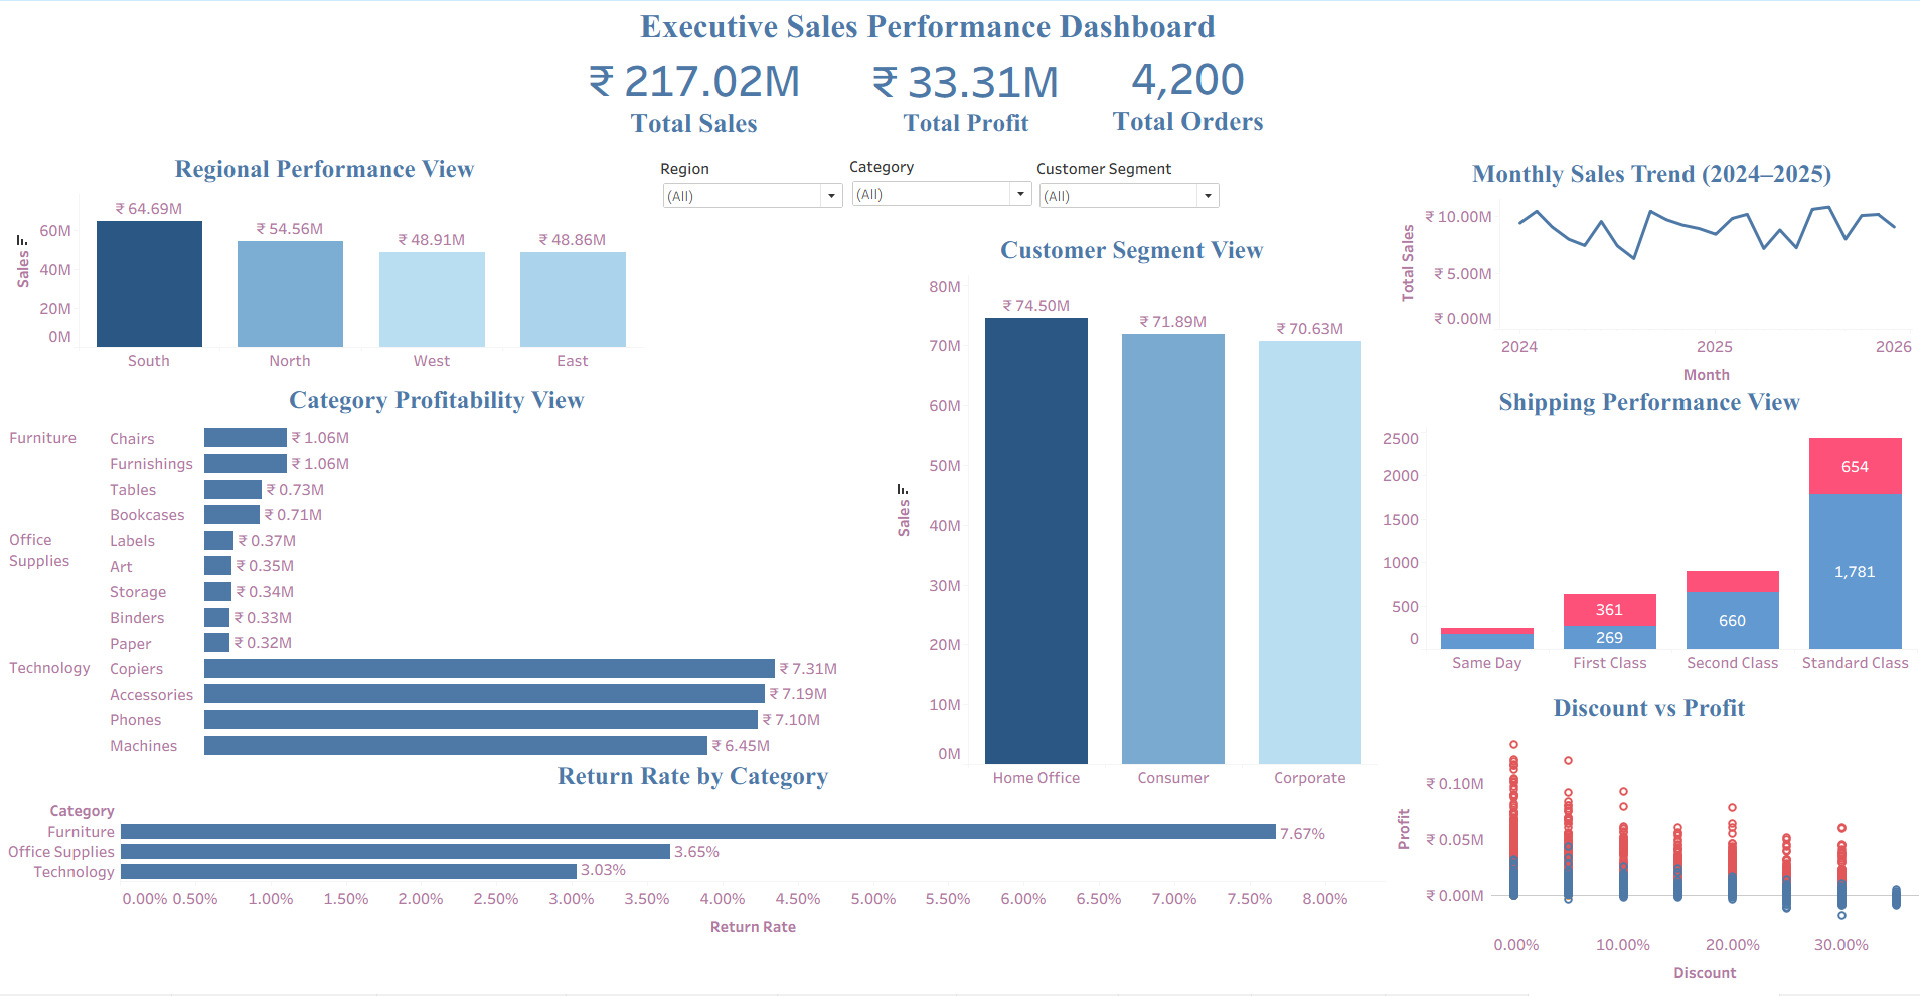

This screenshot's page, from the dashboard's own definition file:
{"tool":"tableau","page":{"name":"Executive Sales Performance Dashboard","canvas":[1000,1000],"units":"permille","ordinal":0},"visuals":[{"type":"text","box":[297.7,3.8,372.8,42.5]},{"type":"worksheet","title":"KPI : Total Profit","mark":"Automatic","box":[451.6,47.4,135.3,118.6]},{"type":"worksheet","title":"KPI : Total Orders","mark":"Automatic","box":[577.3,48.7,123.3,112.4]},{"type":"worksheet","title":"KPI : Total Sales","mark":"Automatic","box":[300.7,49.9,153.3,112.4]},{"type":"worksheet","title":"Regional performance view","mark":"Automatic","rows":["sales"],"cols":["region"],"box":[6,151.1,330.7,222.2]},{"type":"filter","title":"Category profitability view","param":"[federated.15p8m9708xk98t1epphuq06zvli9].[none:category:nk]","box":[443.2,156.1,96.2,82.4]},{"type":"worksheet","title":"Sales trend view","mark":"Automatic","rows":["sales"],"cols":["order_date"],"box":[722.8,156.1,271.2,237.2]},{"type":"filter","title":"Regional performance view","param":"[federated.15p8m9708xk98t1epphuq06zvli9].[none:region:nk]","box":[345.2,158.6,96.2,62.4]},{"type":"filter","title":"Customer segment view","param":"[federated.15p8m9708xk98t1epphuq06zvli9].[none:customer_segment:nk]","box":[540,158.6,96.2,62.4]},{"type":"worksheet","title":"Customer segment view","mark":"Automatic","rows":["sales"],"cols":["customer_segment"],"box":[461.8,232.2,255,591.8]},{"type":"worksheet","title":"Category profitability view","mark":"Automatic","rows":["category","sub_category"],"cols":["profit"],"box":[5.4,383.3,449.2,378.3]},{"type":"worksheet","title":"Shipping performance view","mark":"Automatic","rows":["order_id"],"cols":["ship_mode"],"box":[718.6,385.8,277.8,307.1]},{"type":"worksheet","title":"Discount vs profit view","mark":"Automatic","rows":["profit"],"cols":["discount"],"box":[721,694.1,276,302.1]},{"type":"worksheet","title":"Return analysis view","mark":"Automatic","rows":["category"],"cols":["Calculation_0599525704351747"],"box":[3,762.8,718,236]}]}

Visuals, with their boxes on the dashboard's canvas, which has no fixed pixel size, in thousandths of its width and height (x1, y1, x2, y2). These are canvas units, not pixel positions in the 1920x996 screenshot, which may show the page scaled, cropped or inside an application window:
text: bbox(298, 4, 670, 46)
"KPI : Total Profit" worksheet: bbox(452, 47, 587, 166)
"KPI : Total Orders" worksheet: bbox(577, 49, 701, 161)
"KPI : Total Sales" worksheet: bbox(301, 50, 454, 162)
"Regional performance view" worksheet: bbox(6, 151, 337, 373)
"Category profitability view" filter: bbox(443, 156, 539, 238)
"Sales trend view" worksheet: bbox(723, 156, 994, 393)
"Regional performance view" filter: bbox(345, 159, 441, 221)
"Customer segment view" filter: bbox(540, 159, 636, 221)
"Customer segment view" worksheet: bbox(462, 232, 717, 824)
"Category profitability view" worksheet: bbox(5, 383, 455, 762)
"Shipping performance view" worksheet: bbox(719, 386, 996, 693)
"Discount vs profit view" worksheet: bbox(721, 694, 997, 996)
"Return analysis view" worksheet: bbox(3, 763, 721, 999)
